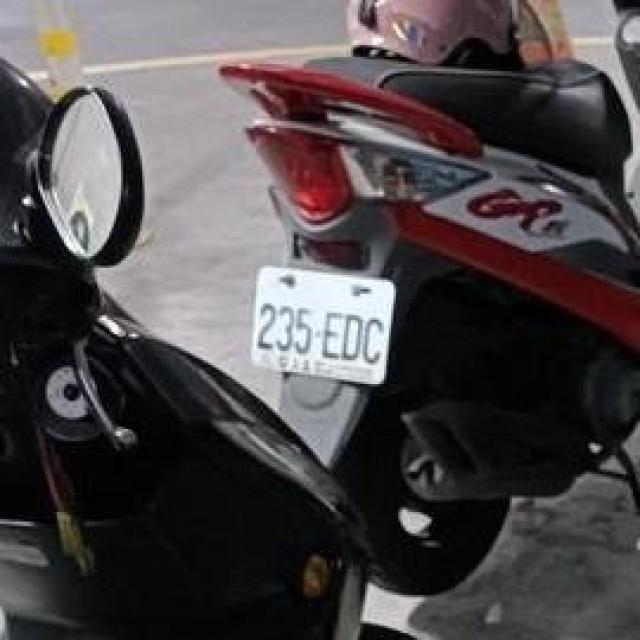W: (244, 261, 403, 388)
